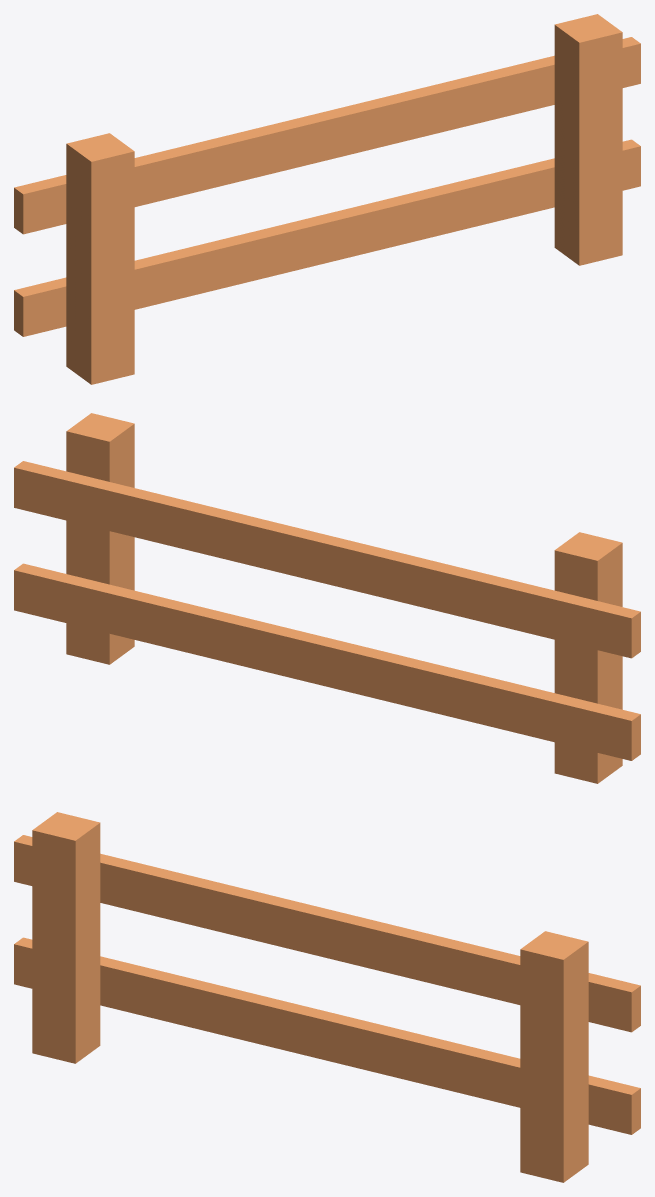
Rendered from fence_simple.obj.
The picture shows the model from 3 angles, top to bottom: view 1: azimuth 30°, elevation 25°; view 2: azimuth 150°, elevation 25°; view 3: azimuth 330°, elevation 25°; orthographic projection.
Visible parts, largest first — view 1: fence_simple; view 2: fence_simple; view 3: fence_simple.
Part boxes in pixels (x1,y1,x2,y2): fence_simple: (14, 14, 640, 384); fence_simple: (14, 413, 640, 783); fence_simple: (14, 812, 640, 1182).
Size of the model in its own units: 10 by 3.45 by 0.959.
